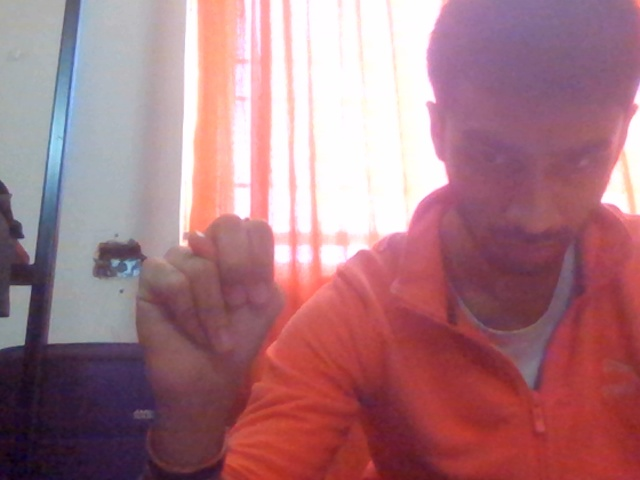N: (129, 195, 302, 438)
